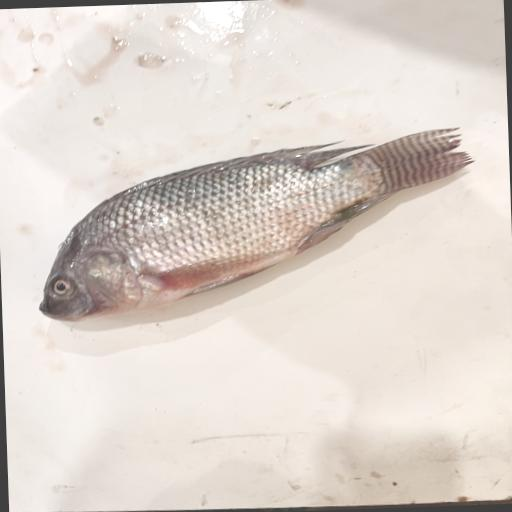Tilapia: (32, 127, 481, 321)
